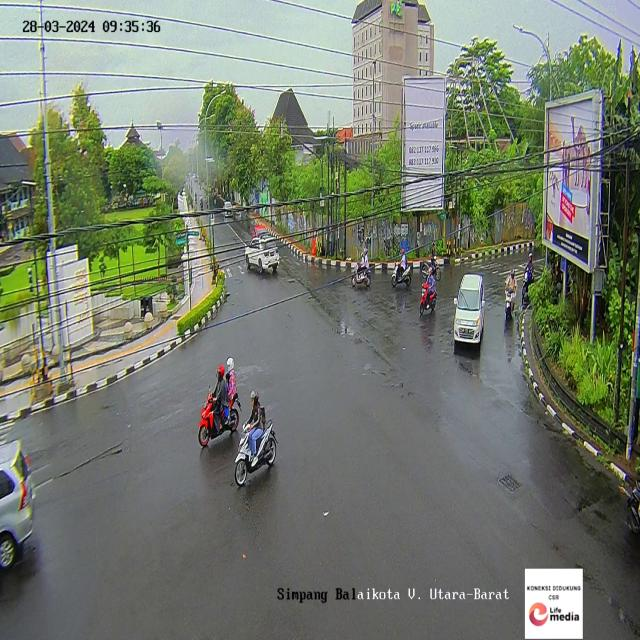car: (0, 439, 36, 578), (455, 276, 486, 348), (244, 231, 277, 279)
motorcycle: (233, 392, 278, 488), (198, 357, 239, 442), (420, 264, 438, 315), (353, 247, 373, 289), (392, 248, 410, 286), (424, 238, 441, 278), (506, 266, 516, 324), (523, 253, 535, 299)
